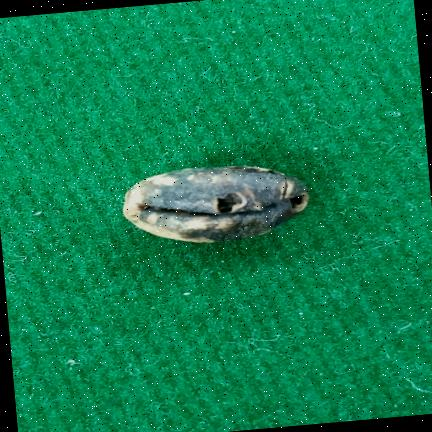partial-black: (123, 166, 309, 243)
